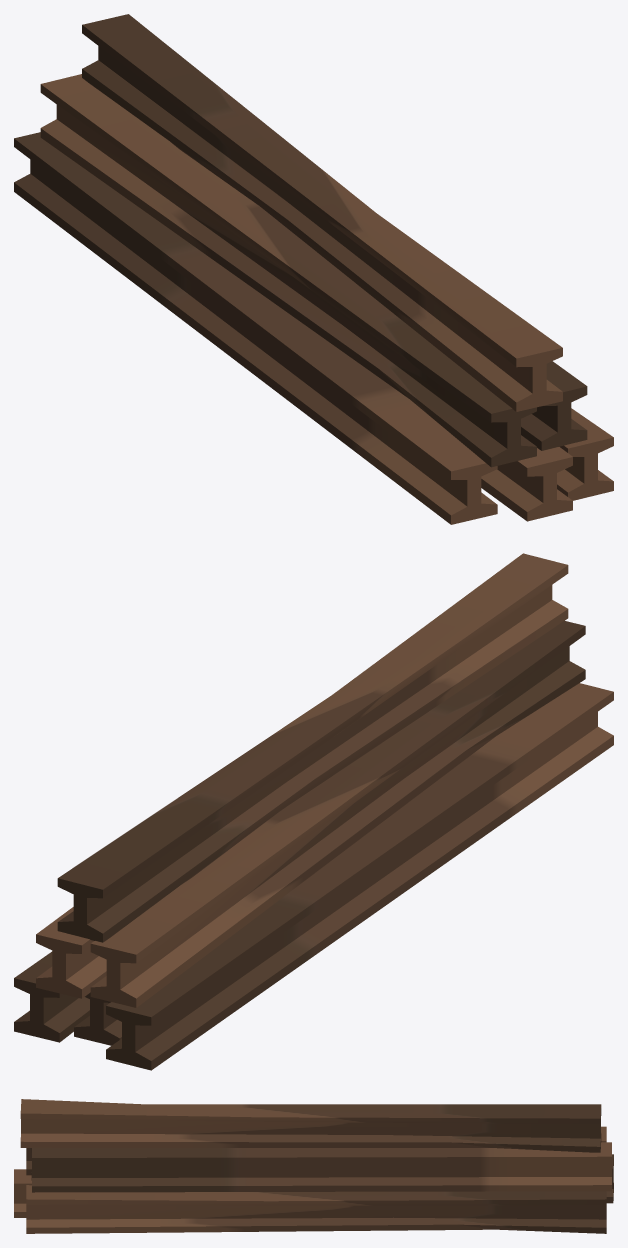
The model's file is SM_Prop_Beam_Stack_01.obj.
3 views of the same model, one above another, from view 1: azimuth 30°, elevation 25°; view 2: azimuth 150°, elevation 25°; view 3: azimuth 270°, elevation 25° (orthographic). The views are drawn at different scales.
Parts seen in each view (by area): view 1: SM_Prop_Beam_Stack_01_0; view 2: SM_Prop_Beam_Stack_01_0; view 3: SM_Prop_Beam_Stack_01_0.
Boxes of the visible parts, x1=… form: SM_Prop_Beam_Stack_01_0: x1=14, y1=14, x2=613, y2=524; SM_Prop_Beam_Stack_01_0: x1=14, y1=553, x2=613, y2=1070; SM_Prop_Beam_Stack_01_0: x1=14, y1=1099, x2=613, y2=1233.
Size of the model in its own units: 0.6035 by 0.5875 by 3.1.
1 material, 1 textured.
